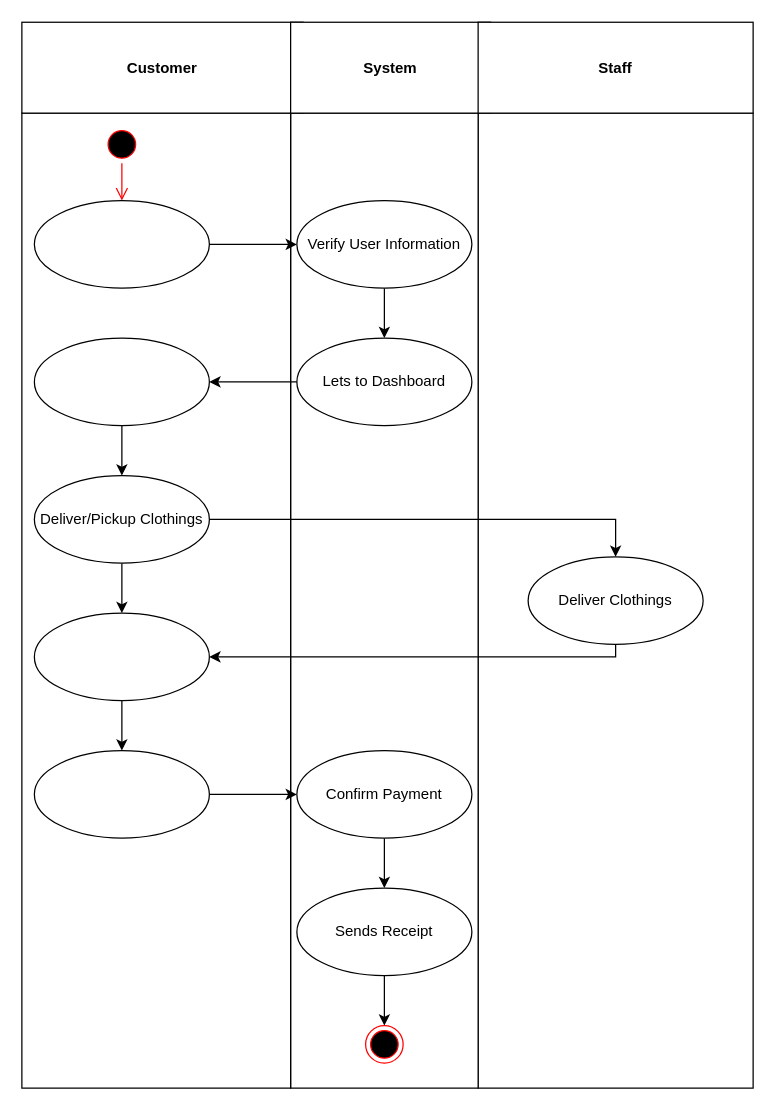
This 775x1110 diagram has some shape labels left out. The shapes that lost their labels are listed below. From the top down, each one's centre as x and y in pixels, then its label:
[121,243]: Login/Register
[121,381]: View Clothings
[121,656]: Schedule Clothings
[121,793]: Pay Clothings
